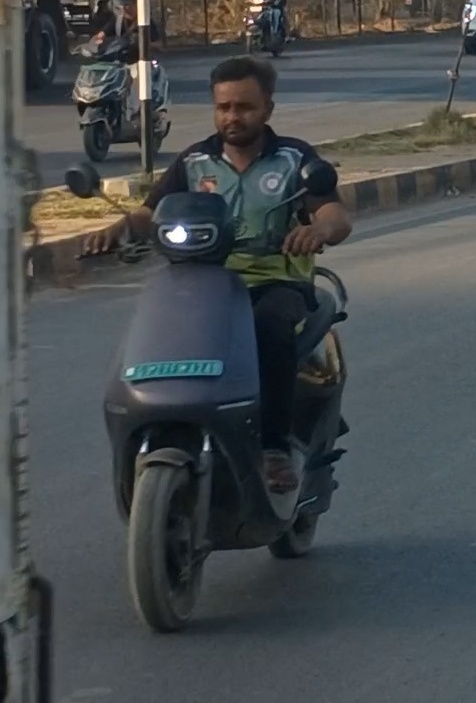BikeWithRider: (54, 40, 396, 647), (60, 0, 176, 160)
NoHelmet: (199, 44, 288, 151)
